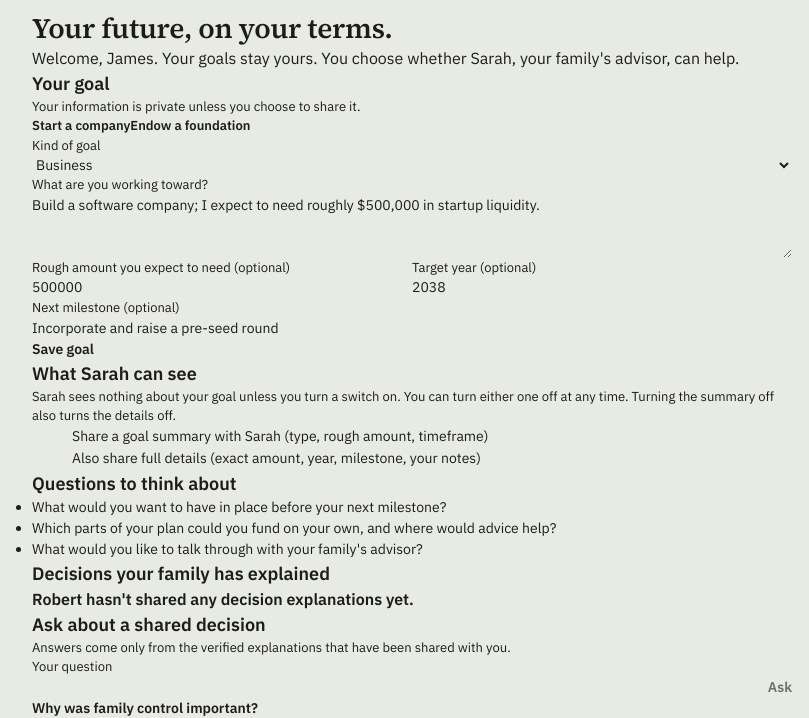
Scenario: GoalCheckIn › checks the form before sending anything
The width and height of the screenshot is (809, 718).
Clear the text box labelled "What are you working toward?" at [412, 226], box [32, 195, 792, 258]
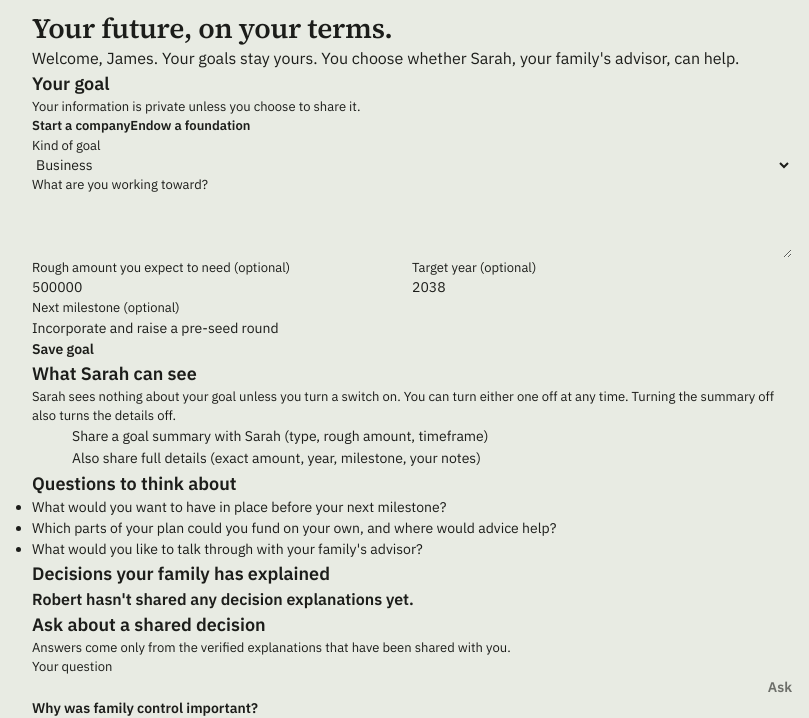
Click the button "Save goal" at [63, 349], box [32, 339, 94, 360]
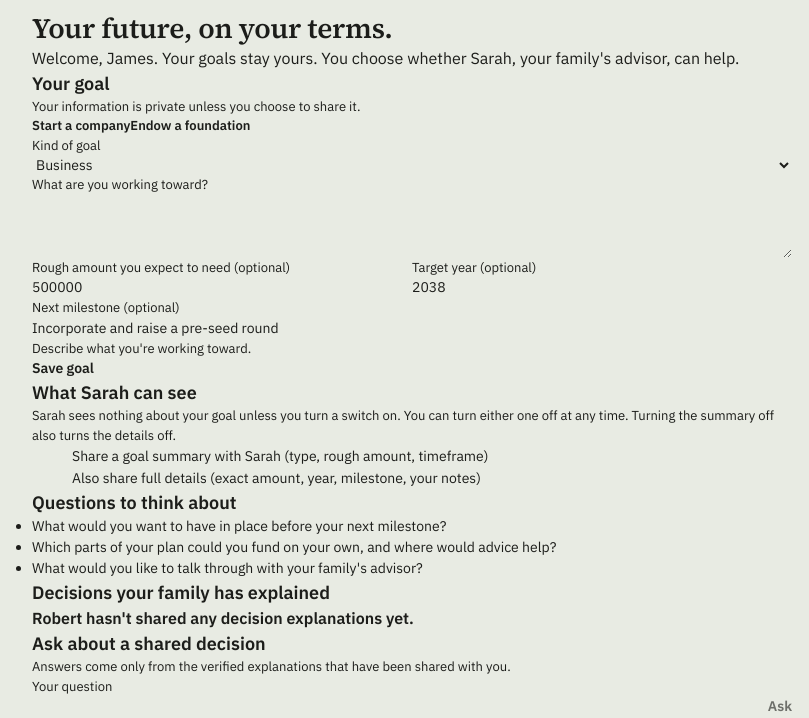
Result: the message reads "Describe what you're working toward." at [32, 340, 251, 357]
Type "Buy a first home" into the text box labelled "What are you working toward?" at [412, 226], box [32, 195, 792, 258]
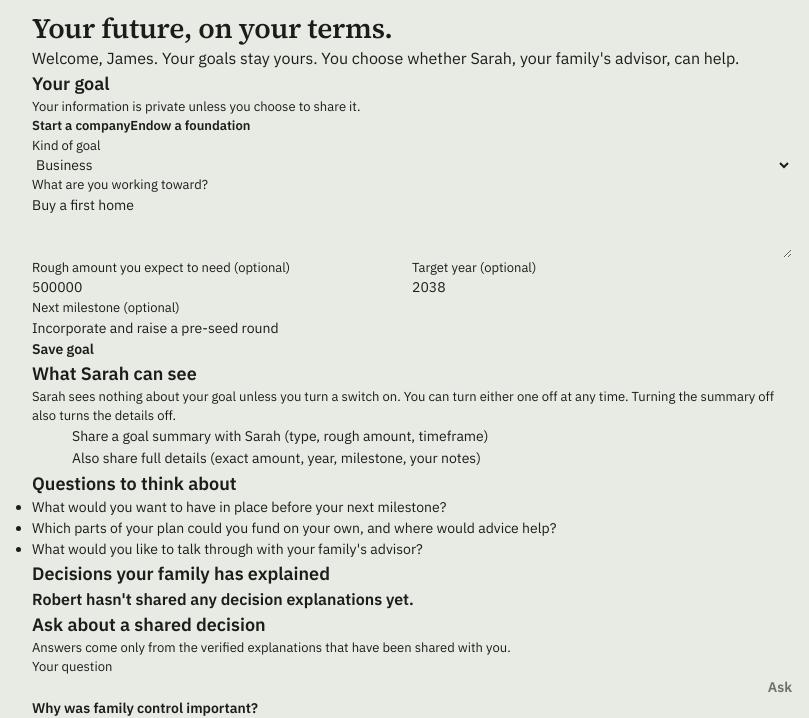
Replace the text in the number field labelled "Rough amount you expect to need (optional)" with "-5" at [222, 288], box [32, 277, 412, 298]
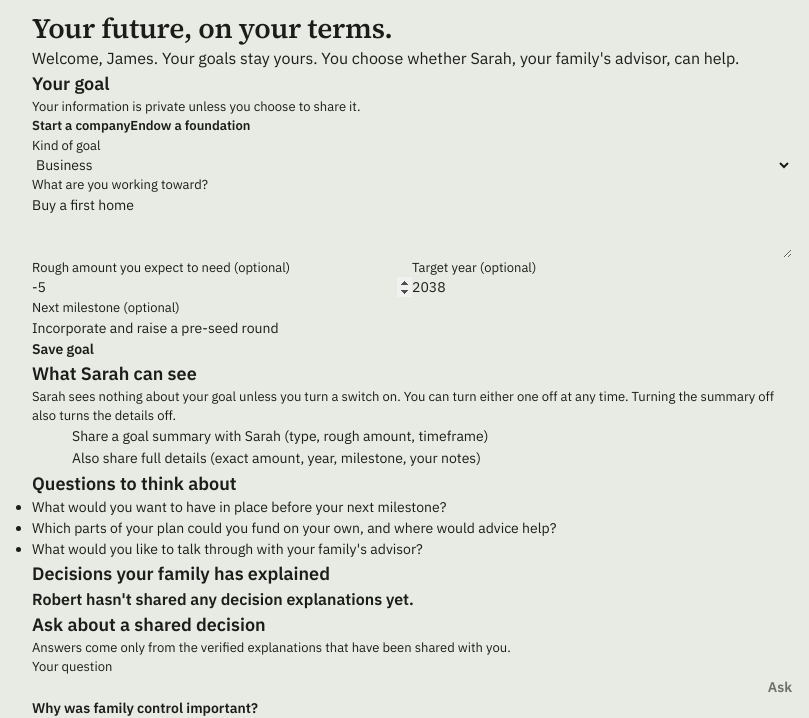
Click the button "Save goal" at [63, 349], box [32, 339, 94, 360]
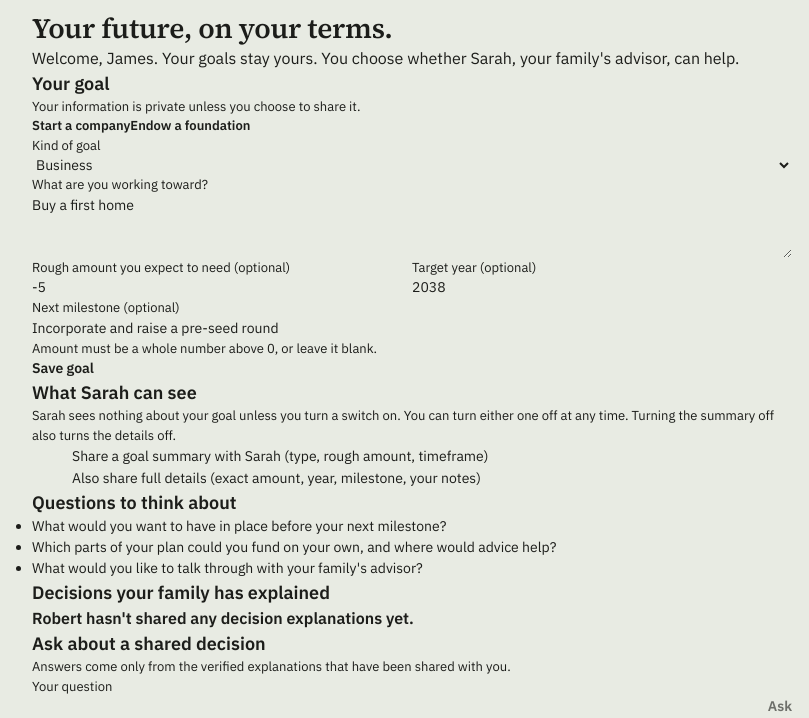
Result: the message shows "Amount must be a whole number above 0" at [32, 340, 377, 357]
